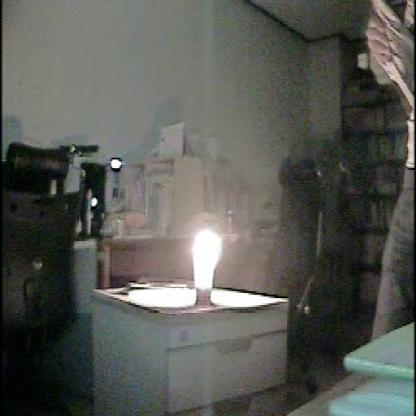fire: (179, 220, 239, 309)
